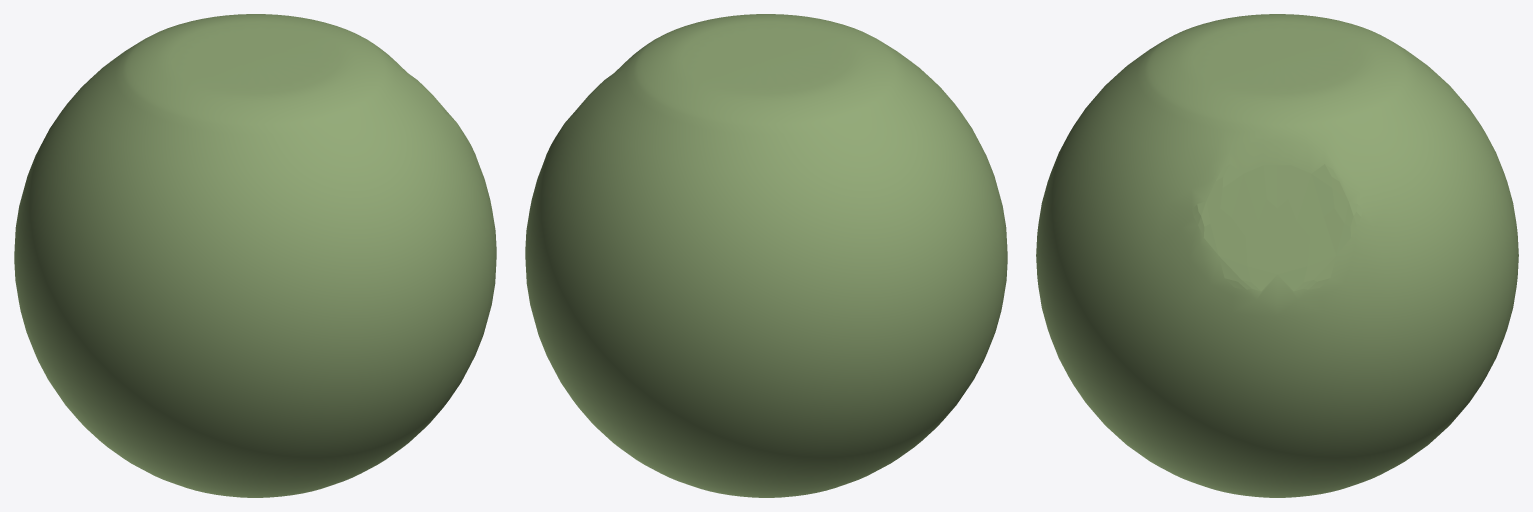
3 renders of one model, left to right at view 1: azimuth 30°, elevation 25°; view 2: azimuth 150°, elevation 25°; view 3: azimuth 270°, elevation 25°, orthographic.
Visible parts, largest first — view 1: Sphere.001; view 2: Sphere.001; view 3: Sphere.001.
Boxes of the visible parts, x1,y1,x2,y2 form: Sphere.001: (14,14,496,497); Sphere.001: (525,14,1007,497); Sphere.001: (1036,14,1518,497).
Bounding box in the file's own units: 18302 × 17524 × 18302.
